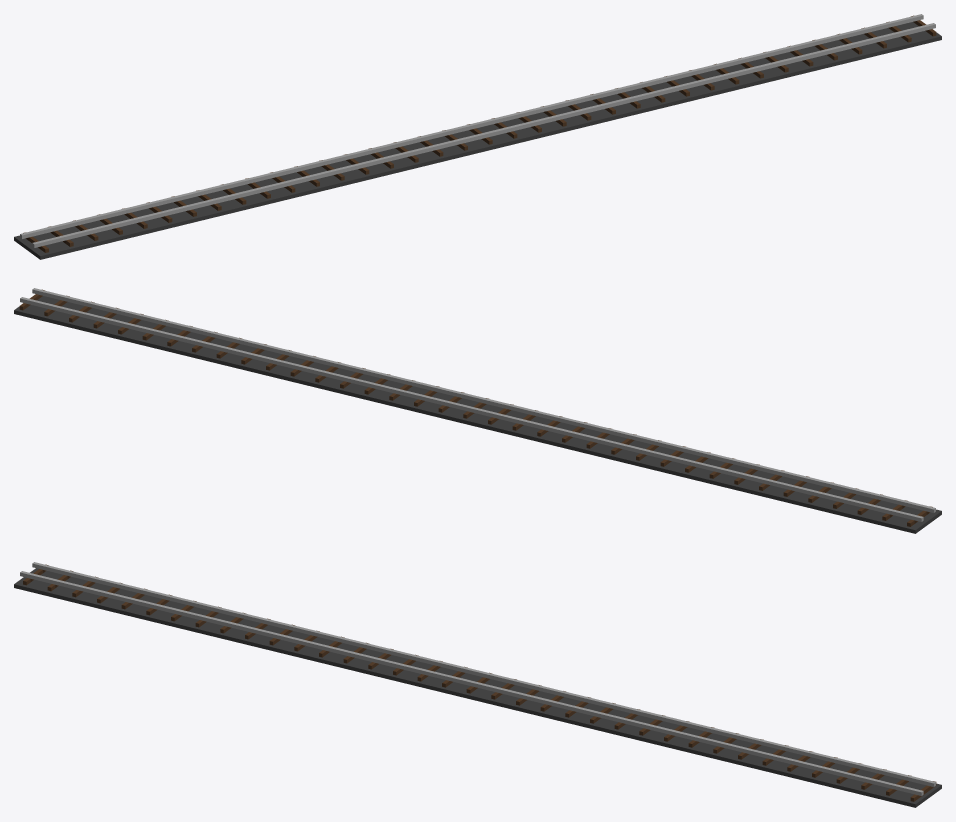
The model's file is railway.obj.
3 renders of one model, top to bottom at view 1: azimuth 30°, elevation 25°; view 2: azimuth 150°, elevation 25°; view 3: azimuth 330°, elevation 25°, orthographic.
Bounding box in the file's own units: 25.6 × 0.3 × 1.3.
1 material, 1 textured.
